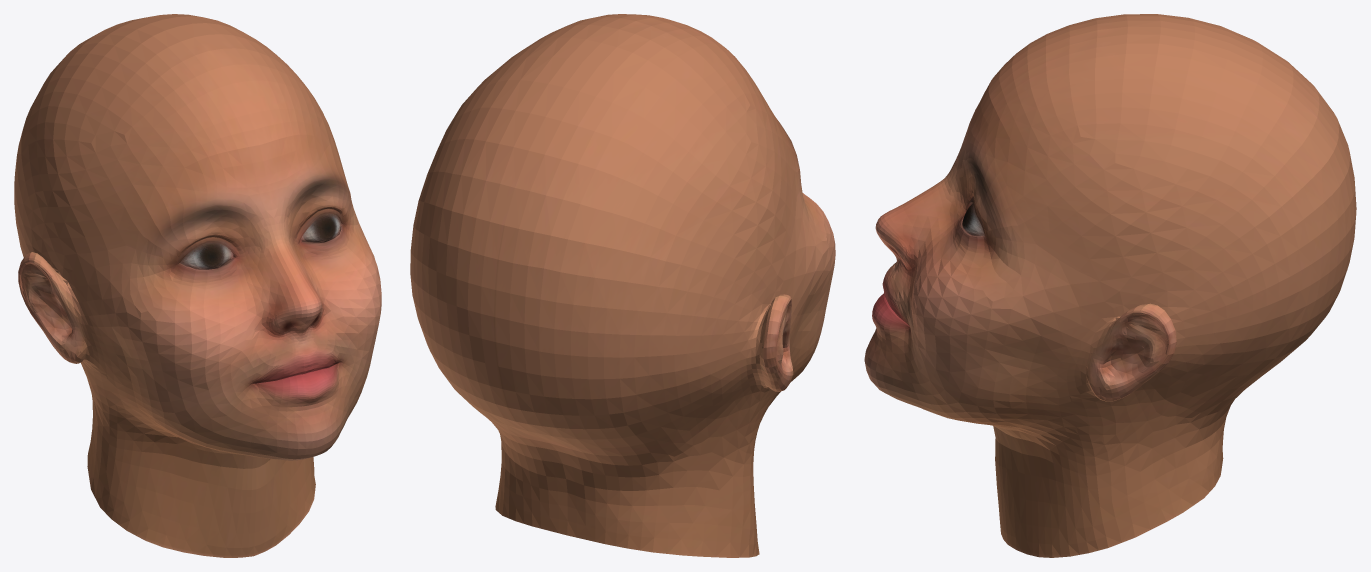
Rendered from face_youngfemale.obj.
The picture shows the model from 3 angles, left to right: view 1: azimuth 30°, elevation 25°; view 2: azimuth 150°, elevation 25°; view 3: azimuth 270°, elevation 25°; orthographic projection. The views are drawn at different scales.
Parts seen in each view (by area): view 1: skin_hi, eyeR_hi, eyeL_hi; view 2: skin_hi; view 3: skin_hi.
Boxes of the visible parts, box(x1,y1,x2,y2) form: skin_hi: box(14, 14, 381, 557); eyeR_hi: box(180, 242, 233, 269); eyeL_hi: box(300, 213, 341, 242); skin_hi: box(410, 14, 835, 557); skin_hi: box(864, 14, 1356, 557).
Size of the model in its own units: 195 by 282 by 248.
7 materials, 7 textured.
